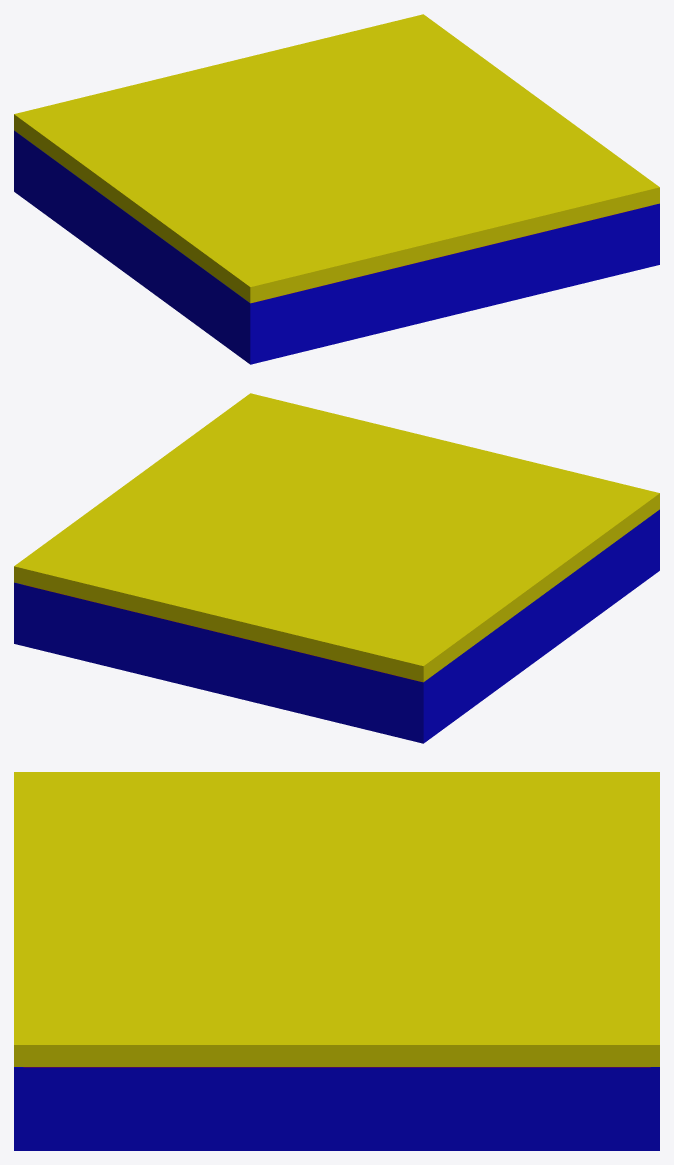
Rendered from floorTile2.fbx.
3 renders of one model, top to bottom at view 1: azimuth 30°, elevation 25°; view 2: azimuth 150°, elevation 25°; view 3: azimuth 270°, elevation 25°, orthographic. The views are drawn at different scales.
Parts seen in each view (by area): view 1: Box006; view 2: Box006; view 3: Box006.
Boxes of the visible parts, box(x1,y1,x2,y2) form: Box006: box(14, 14, 659, 364); Box006: box(14, 393, 659, 743); Box006: box(14, 772, 659, 1150).
Size of the model in its own units: 70 by 12.66 by 70.
